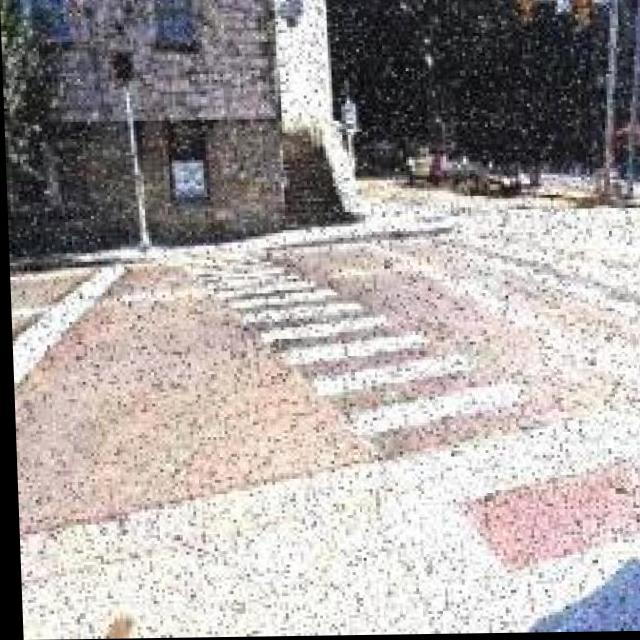zebra: (143, 241, 627, 479)
